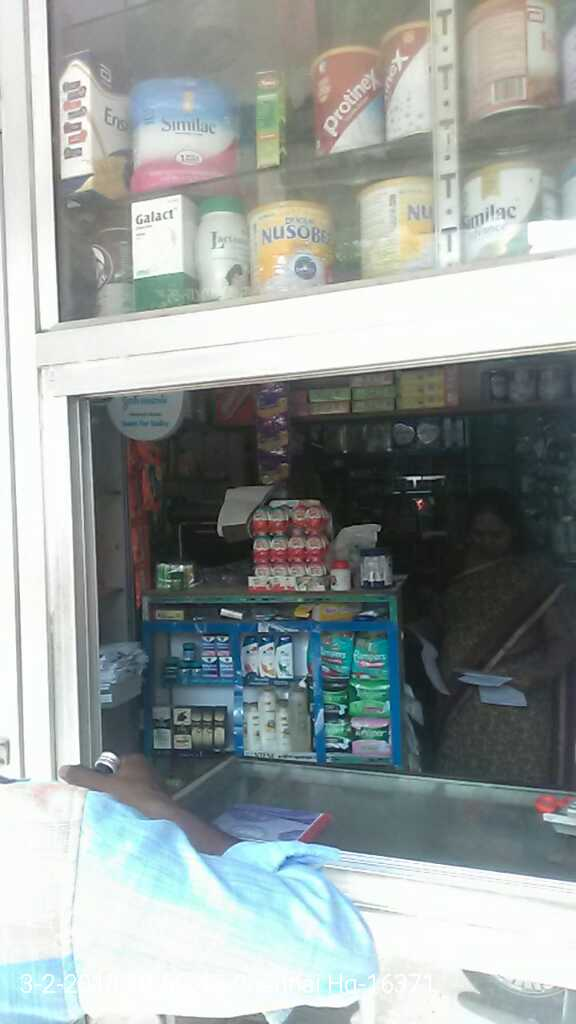vicks: (157, 624, 238, 688)
